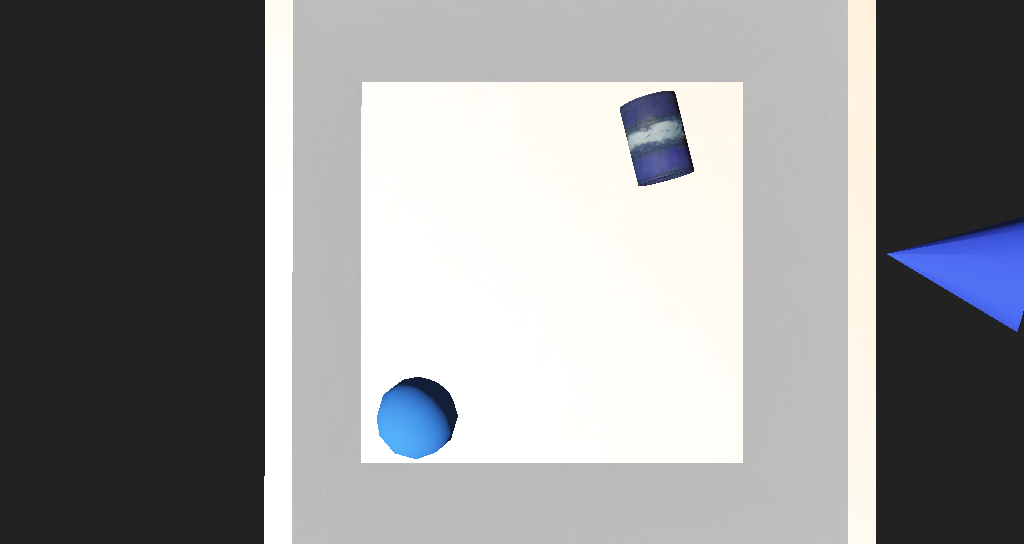cone: (552, 169, 620, 222)
cylinder: (697, 222, 879, 303)
sphere: (364, 324, 431, 372)
